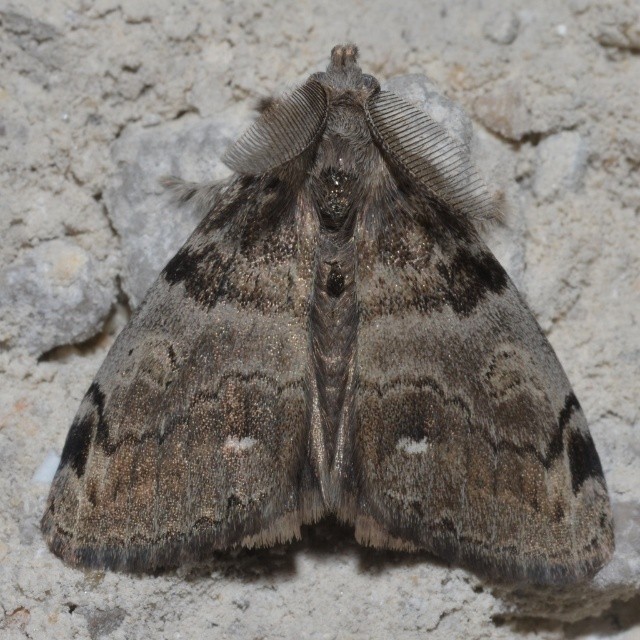Moths and butterflies: (38, 45, 618, 586)
